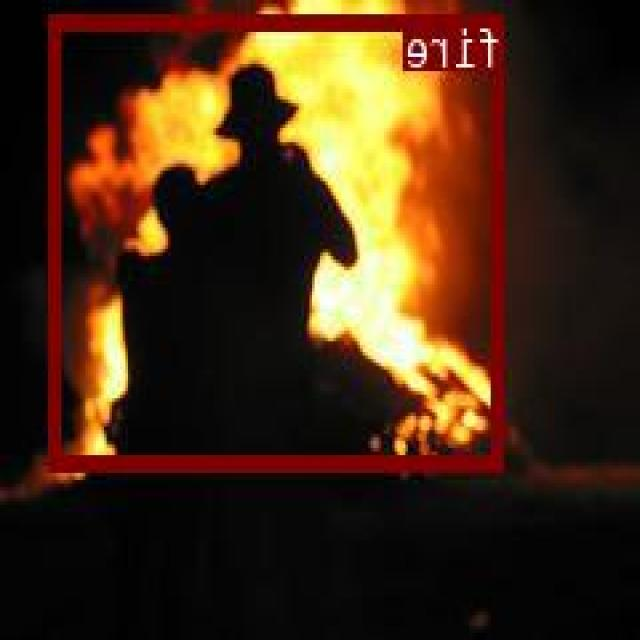fire: (51, 11, 505, 468)
